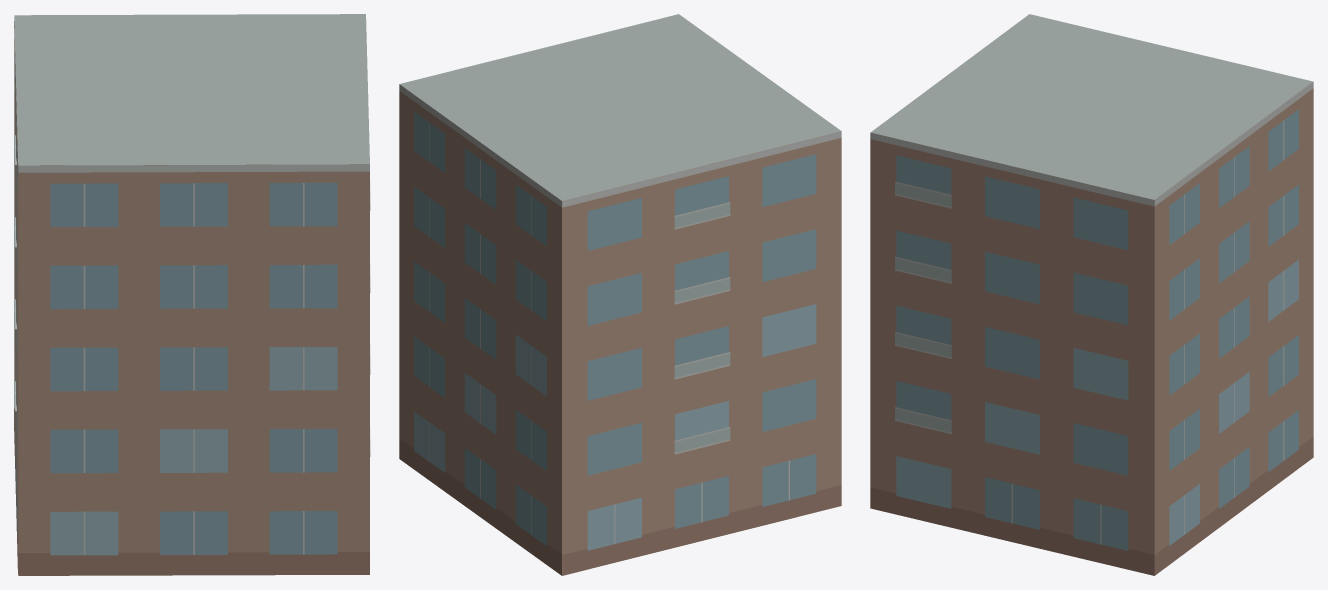
Rendered from survey-upis-32712341.glb.
The picture shows the model from 3 angles, left to right: view 1: azimuth 30°, elevation 25°; view 2: azimuth 150°, elevation 25°; view 3: azimuth 270°, elevation 25°; orthographic projection. The views are drawn at different scales.
Parts seen in each view (by area): view 1: survey-upis-32712341.tmp; view 2: survey-upis-32712341.tmp; view 3: survey-upis-32712341.tmp.
Boxes of the visible parts, left/top/right/bottom form: survey-upis-32712341.tmp: left=14, top=14, right=370, bottom=575; survey-upis-32712341.tmp: left=399, top=14, right=841, bottom=575; survey-upis-32712341.tmp: left=870, top=14, right=1313, bottom=575.
Size of the model in its own units: 14.76 by 13.9 by 14.86.
